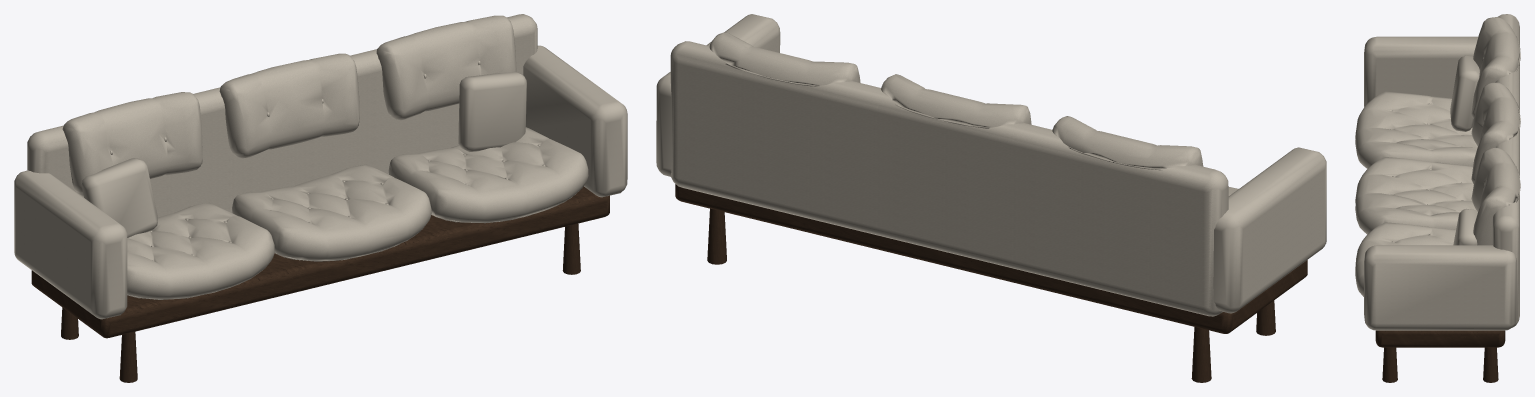
Rendered from lounge-bench.glb.
3 views of the same model, side by side, from view 1: azimuth 30°, elevation 25°; view 2: azimuth 150°, elevation 25°; view 3: azimuth 270°, elevation 25° (orthographic). The views are drawn at different scales.
Parts seen in each view (by area): view 1: Modular cream lounge sofa; view 2: Modular cream lounge sofa; view 3: Modular cream lounge sofa.
Part boxes in pixels (x1=…): Modular cream lounge sofa: x1=14, y1=14, x2=627, y2=382; Modular cream lounge sofa: x1=656, y1=14, x2=1326, y2=382; Modular cream lounge sofa: x1=1355, y1=14, x2=1520, y2=382.
Size of the model in its own units: 2.73 by 1.03 by 0.8549.
Materials: 3 (3 with a texture image).
